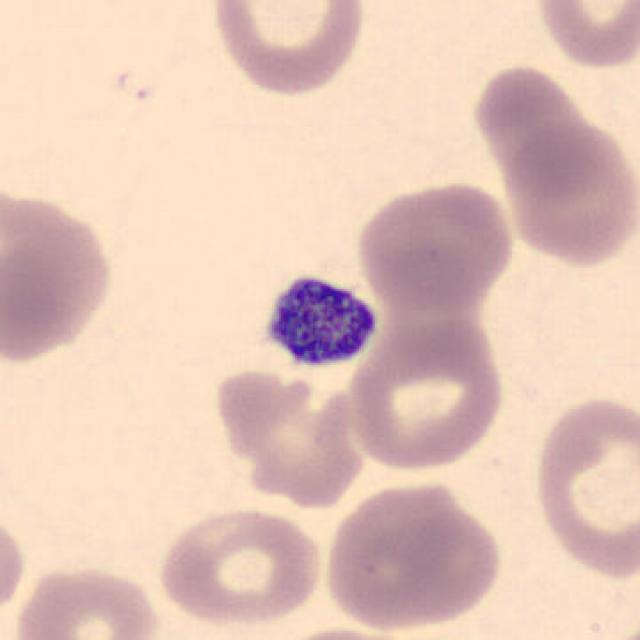Platelets: (249, 265, 386, 379)
RBC: (318, 478, 507, 635), (345, 314, 508, 476), (208, 362, 368, 512), (352, 176, 519, 312), (0, 180, 121, 367), (153, 503, 327, 631), (498, 115, 638, 272), (528, 388, 638, 585), (466, 60, 606, 197), (204, 0, 370, 99), (8, 560, 163, 640), (529, 0, 638, 72), (0, 506, 28, 624), (252, 622, 432, 640), (586, 615, 640, 639)
